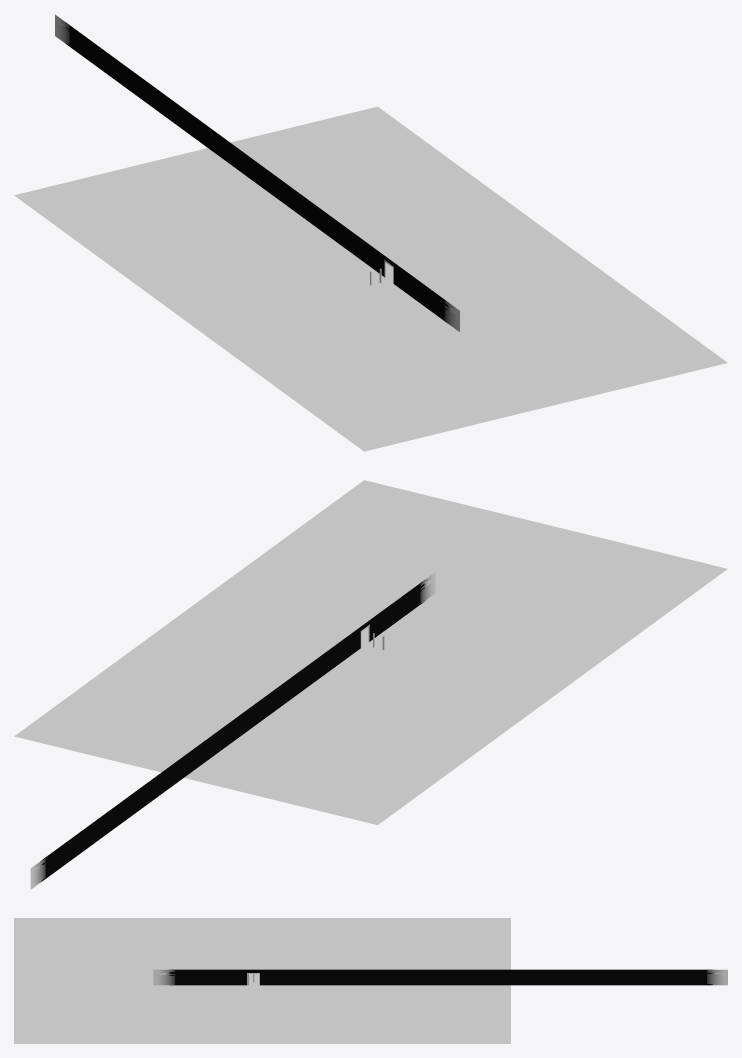
Rendered from wall_01(1).FBX.
3 renders of one model, top to bottom at view 1: azimuth 30°, elevation 25°; view 2: azimuth 150°, elevation 25°; view 3: azimuth 270°, elevation 25°, orthographic. The views are drawn at different scales.
Visible parts, largest first — view 1: Plane002, Plane001; view 2: Plane002, Plane001; view 3: Plane002, Plane001.
Part boxes in pixels (x1,y1,x2,y2): Plane002: (14,106,727,451); Plane001: (55,14,459,331); Plane002: (14,480,727,825); Plane001: (30,572,435,889); Plane002: (14,918,510,1043); Plane001: (153,969,727,985).
Bounding box in the file's own units: 4858 × 277 × 11640.
